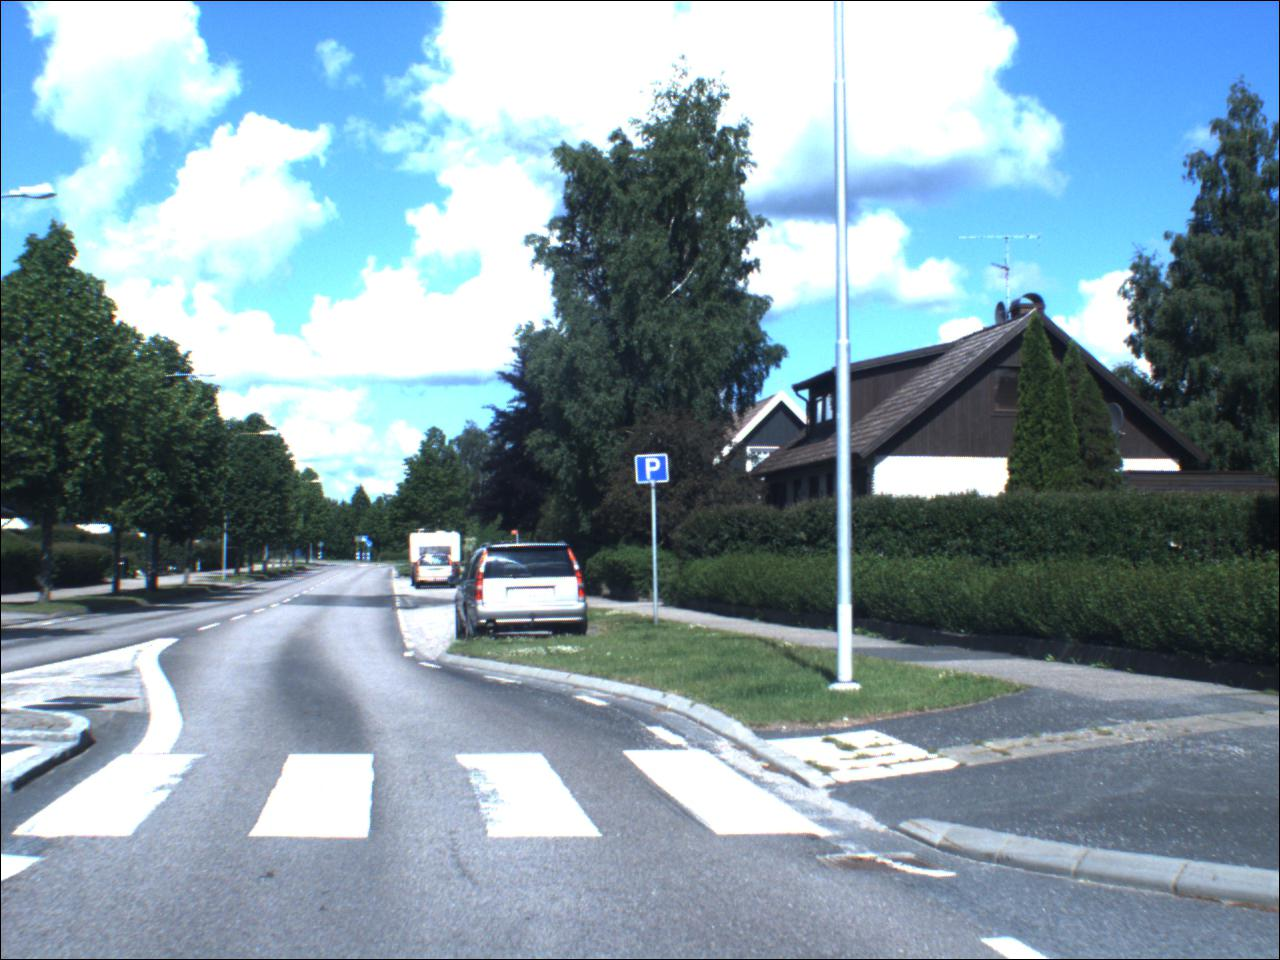PASS_RIGHT_SIDE: (369, 542, 375, 550)
PEDESTRIAN_CROSSING: (364, 537, 370, 544)
